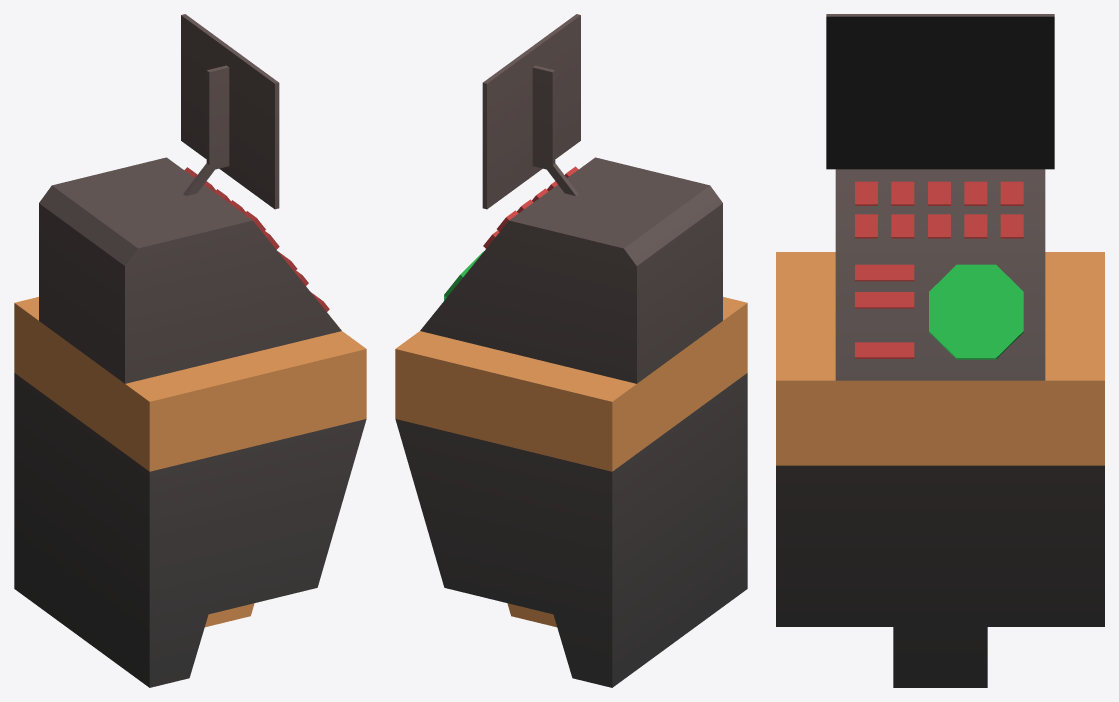
The model's file is module.FBX.
3 views of the same model, side by side, from view 1: azimuth 30°, elevation 25°; view 2: azimuth 150°, elevation 25°; view 3: azimuth 270°, elevation 25° (orthographic). The views are drawn at different scales.
Visible parts, largest first — view 1: module; view 2: module; view 3: module.
Part boxes in pixels (x1,y1,x2,y2): module: (14, 14, 366, 687); module: (395, 14, 747, 687); module: (776, 14, 1104, 687).
Bounding box in the file's own units: 7.47 × 18.2 × 8.07.
